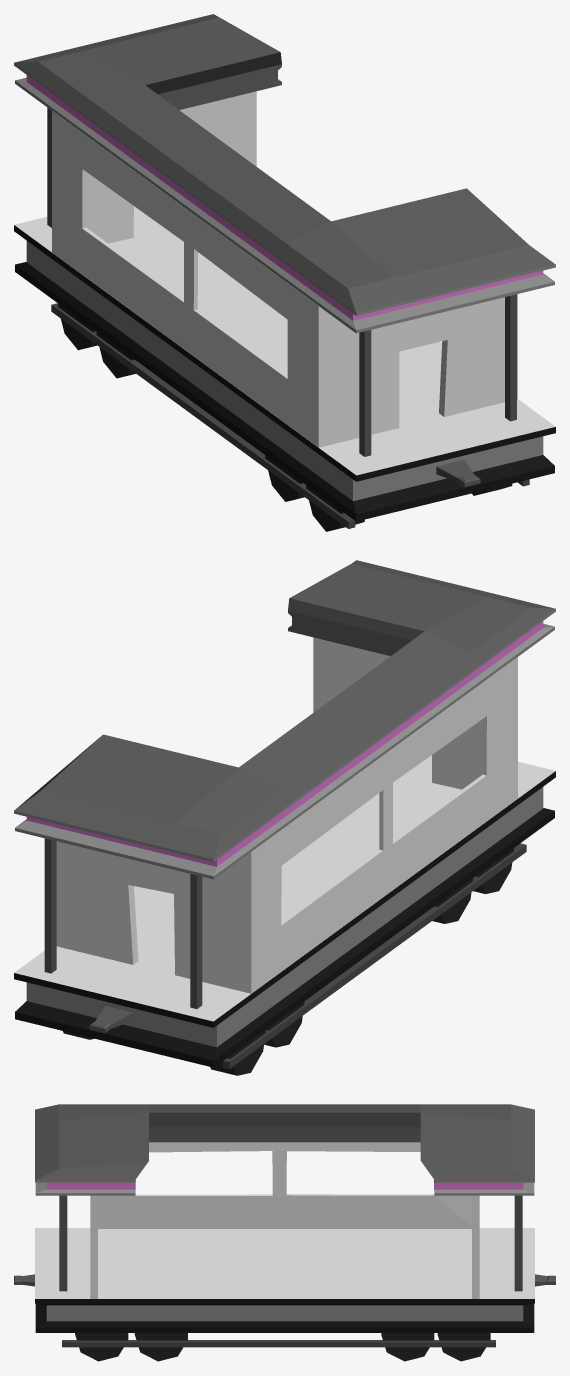
Rendered from Basic_Train_cart.fbx.
3 renders of one model, top to bottom at view 1: azimuth 30°, elevation 25°; view 2: azimuth 150°, elevation 25°; view 3: azimuth 270°, elevation 25°, orthographic. The views are drawn at different scales.
Parts seen in each view (by area): view 1: roof, wall, Base_floor, Pillars, wheel_pillars, wheel, Connectors; view 2: roof, wall, Base_floor, wheel_pillars, Pillars, wheel, Connectors; view 3: Base_floor, roof, wall, wheel, wheel_pillars, Pillars, Connectors.
Part boxes in pixels (x1,y1,x2,y2): roof: (14, 14, 555, 333); wall: (52, 91, 517, 447); Base_floor: (14, 206, 555, 521); Pillars: (47, 107, 516, 456); wheel_pillars: (51, 303, 529, 528); wheel: (57, 303, 512, 531); Connectors: (436, 459, 480, 486); roof: (14, 560, 555, 879); wall: (56, 637, 517, 993); Base_floor: (14, 755, 555, 1067); wheel_pillars: (223, 843, 526, 1068); Pillars: (44, 838, 202, 1008); wheel: (63, 848, 514, 1075); Connectors: (89, 1006, 133, 1033); Base_floor: (35, 1228, 534, 1332); roof: (35, 1104, 534, 1195); wall: (90, 1142, 479, 1298); wheel: (75, 1333, 490, 1361); wheel_pillars: (62, 1340, 495, 1347); Pillars: (59, 1195, 522, 1291); Connectors: (14, 1274, 555, 1286).
Bounding box in the file's own units: 1916 × 2528 × 6173.
